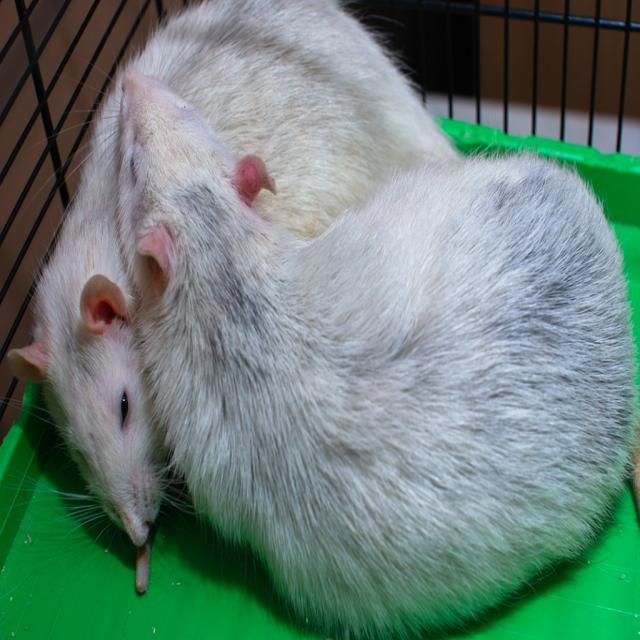rat: (116, 65, 638, 638), (4, 0, 455, 545)
